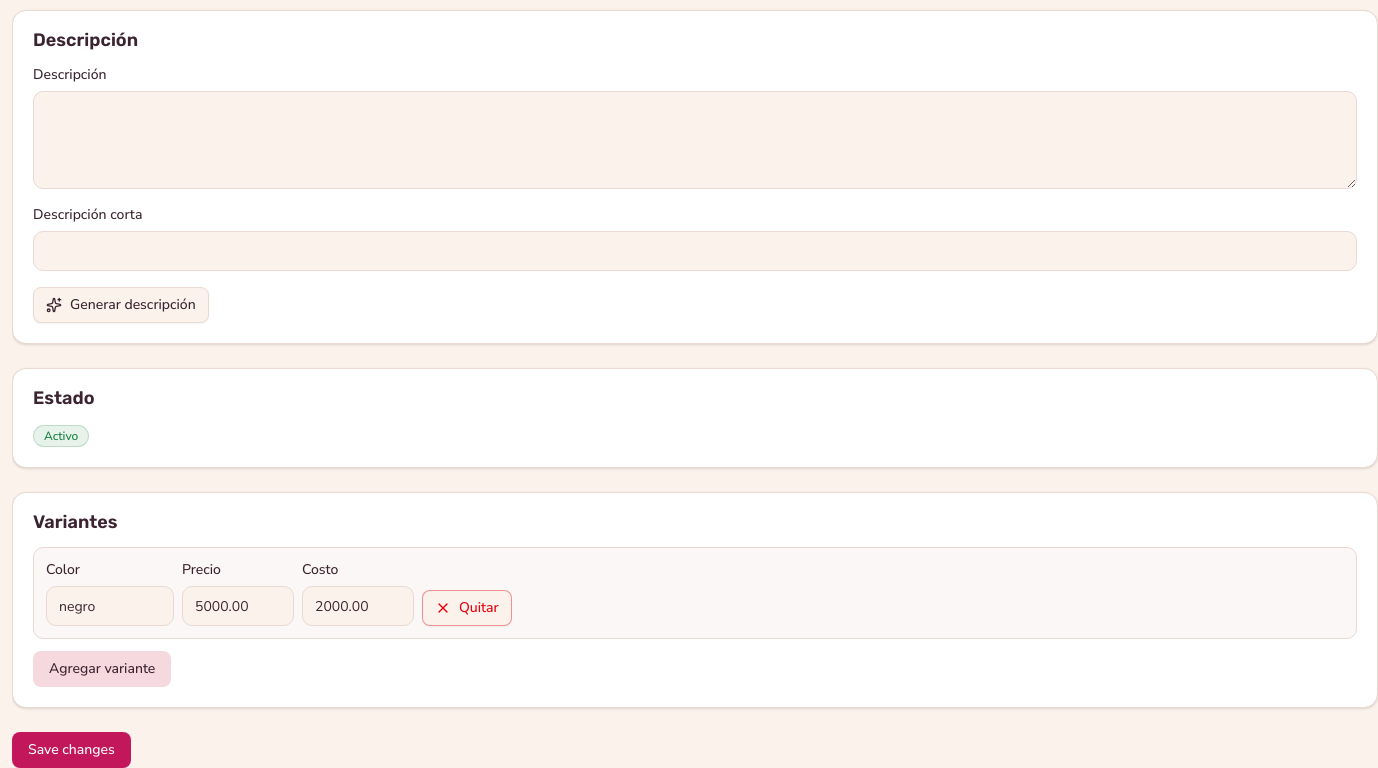
Test case: ProductForm › removes a SAVED row by submitting retireVariantAction
This screenshot has width=1378, height=768.
(page scrolled)
Check: the field labelled "Color" holds "negro", box [46,586,174,626]
What coordinates should you click on to do the following:
click the button "Quitar"
I would click on:
 (467, 608)
Its box is [422,590,512,626].
(page scrolled)
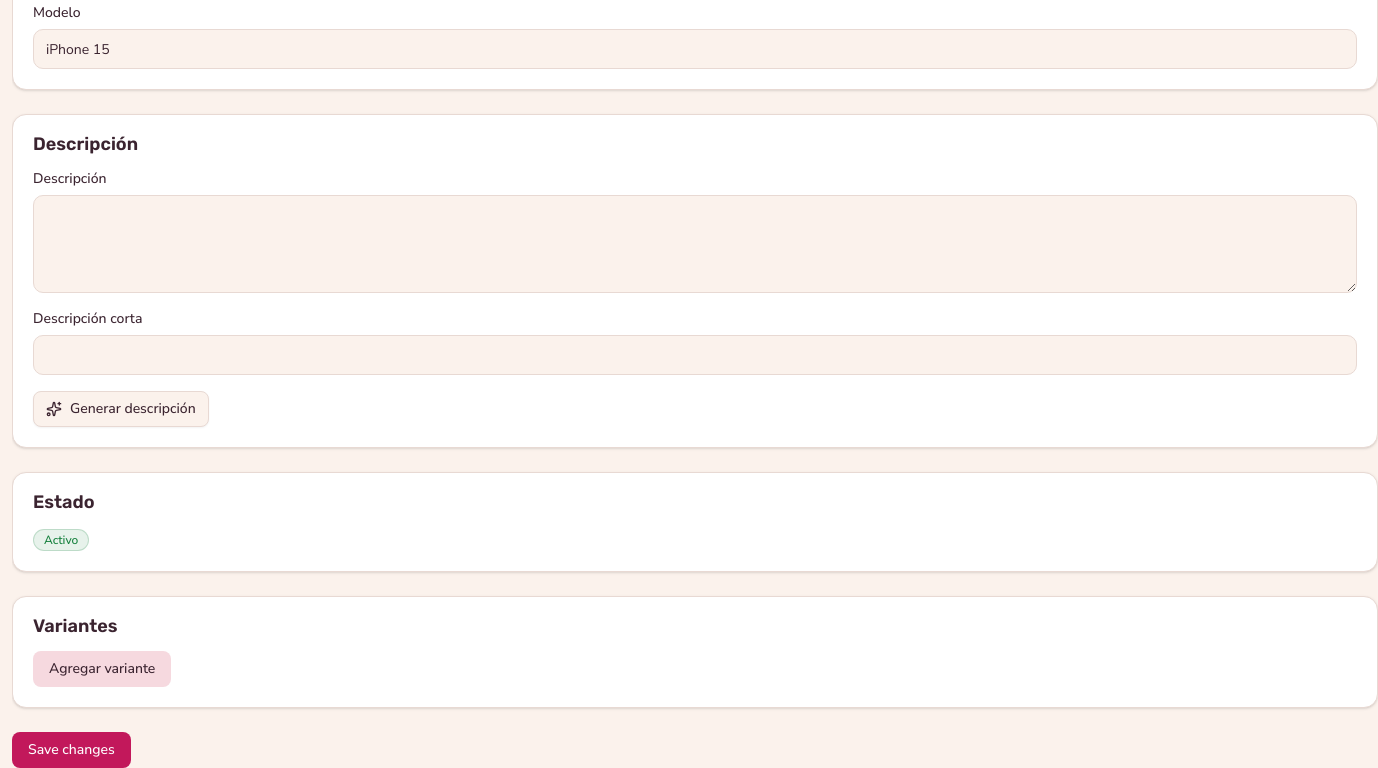
Check: no labels labelled "Color" are shown
